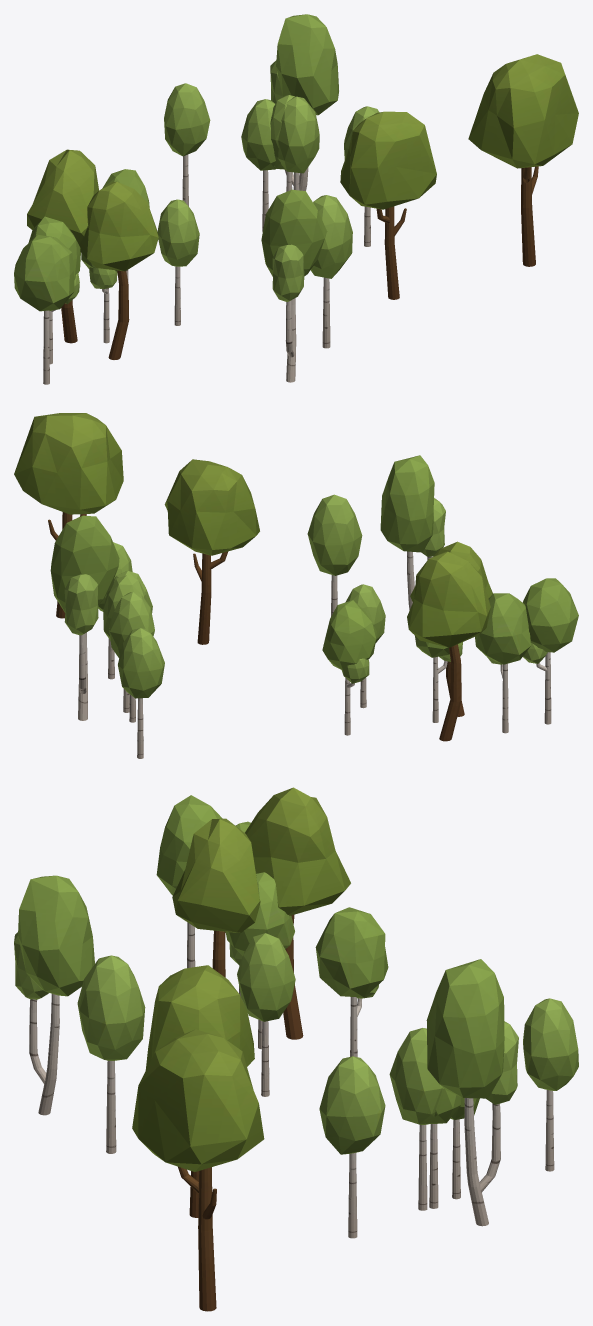
File: Trees9.gltf
3 views of the same model, one above another, from view 1: azimuth 30°, elevation 25°; view 2: azimuth 150°, elevation 25°; view 3: azimuth 270°, elevation 25° (orthographic). The views are drawn at different scales.
Visible parts, largest first — view 1: Beechtree3 - copy.007, Beechtree3 - copy.033, Beechtree1 - copy.009, BirchTree2 - copy.013, BirchTree2 - copy.005, Beechtree1 - copy.008, BirchTree3 - copy.026, BirchTree1 - copy.017, BirchTree1 - copy.002, BirchTree1 - copy.018, BirchTree1 - copy.035, BirchTree1 - copy.045 (+5 smaller); view 2: Beechtree3 - copy.007, Beechtree3 - copy.033, Beechtree1 - copy.008, BirchTree2 - copy.005, BirchTree2 - copy.013, BirchTree3 - copy.026, BirchTree1 - copy.002, BirchTree3 - copy.021, BirchTree3 - copy.005, BirchTree1 - copy.017, BirchTree1 - copy.045, BirchTree1 - copy.035 (+4 smaller); view 3: Beechtree3 - copy.007, BirchTree2 - copy.005, BirchTree2 - copy.013, Beechtree1 - copy.008, Beechtree1 - copy.009, Beechtree3 - copy.033, BirchTree1 - copy.002, BirchTree3 - copy.021, BirchTree1 - copy.019, BirchTree1 - copy.017, BirchTree1 - copy.035, BirchTree1 - copy.018 (+4 smaller).
Part boxes in pixels (box(x1,y1,x2,y2)): Beechtree3 - copy.007: box(468, 54, 578, 266); Beechtree3 - copy.033: box(340, 111, 436, 299); Beechtree1 - copy.009: box(79, 181, 158, 359); BirchTree2 - copy.013: box(261, 189, 327, 382); BirchTree2 - copy.005: box(270, 14, 338, 190); Beechtree1 - copy.008: box(27, 149, 98, 343); BirchTree3 - copy.026: box(14, 234, 74, 384); BirchTree1 - copy.017: box(164, 83, 210, 206); BirchTree1 - copy.002: box(310, 195, 352, 348); BirchTree1 - copy.018: box(278, 96, 319, 190); BirchTree1 - copy.035: box(157, 199, 199, 325); BirchTree1 - copy.045: box(241, 99, 275, 231); Beechtree3 - copy.007: box(14, 413, 123, 618); Beechtree3 - copy.033: box(164, 459, 259, 644); Beechtree1 - copy.008: box(407, 551, 490, 741); BirchTree2 - copy.005: box(50, 515, 119, 720); BirchTree2 - copy.013: box(380, 455, 445, 635); BirchTree3 - copy.026: box(522, 578, 578, 724); BirchTree1 - copy.002: box(307, 494, 362, 616); BirchTree3 - copy.021: box(322, 600, 376, 735); BirchTree3 - copy.005: box(475, 593, 530, 733); BirchTree1 - copy.017: box(118, 628, 164, 758); BirchTree1 - copy.045: box(109, 592, 154, 722); BirchTree1 - copy.035: box(345, 584, 385, 708); Beechtree3 - copy.007: box(132, 1029, 264, 1311); BirchTree2 - copy.005: box(426, 959, 518, 1226); BirchTree2 - copy.013: box(14, 875, 94, 1115); Beechtree1 - copy.008: box(245, 787, 350, 1039); Beechtree1 - copy.009: box(172, 818, 260, 977); Beechtree3 - copy.033: box(145, 965, 254, 1217); BirchTree1 - copy.002: box(77, 955, 145, 1153); BirchTree3 - copy.021: box(315, 907, 388, 1056); BirchTree1 - copy.019: box(319, 1056, 385, 1238); BirchTree1 - copy.017: box(523, 998, 578, 1171); BirchTree1 - copy.035: box(237, 933, 295, 1096); BirchTree1 - copy.018: box(389, 1028, 442, 1210).
Size of the model in its own units: 33.48 by 11.83 by 22.63.
Materials: 5 (5 with a texture image).
